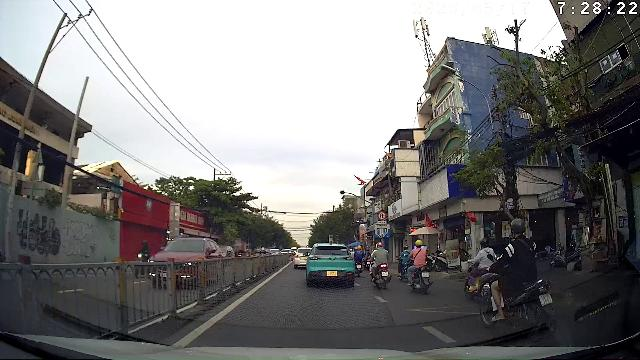124b-cam-oto-quay-dau-xe: (378, 210, 387, 219)
